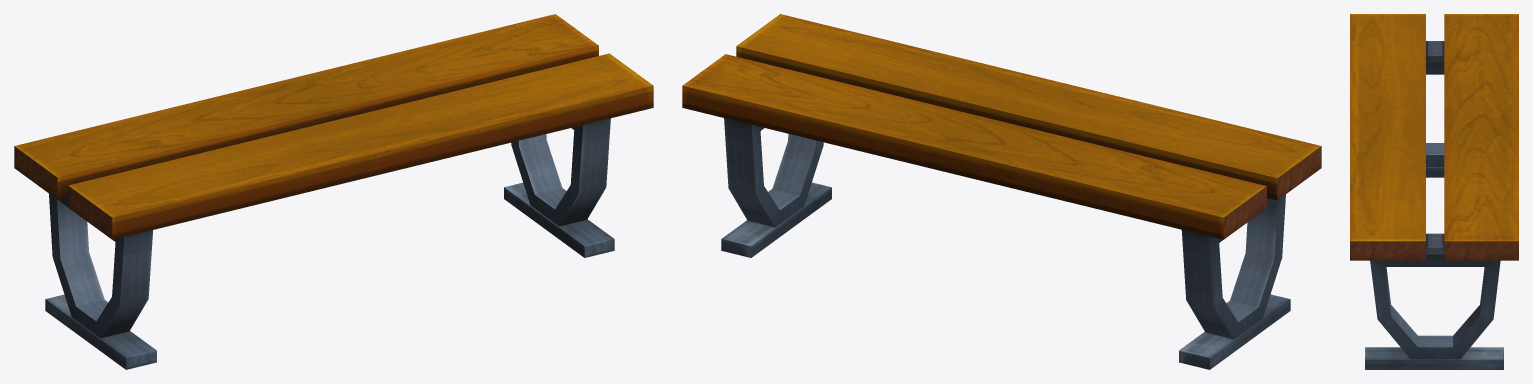
File: furni_0200730.FBX
3 renders of one model, left to right at view 1: azimuth 30°, elevation 25°; view 2: azimuth 150°, elevation 25°; view 3: azimuth 270°, elevation 25°, orthographic. The views are drawn at different scales.
Visible parts, largest first — view 1: furni_0200730; view 2: furni_0200730; view 3: furni_0200730.
Boxes of the visible parts, left/top/right/bottom form: furni_0200730: left=14, top=14, right=653, bottom=369; furni_0200730: left=682, top=14, right=1321, bottom=369; furni_0200730: left=1350, top=14, right=1518, bottom=369.
Size of the model in its own units: 158 by 45.62 by 49.4.
Materials: 1 (1 with a texture image).
